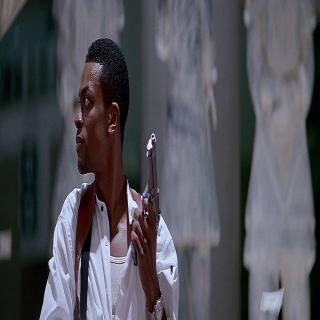gun: (128, 128, 162, 265)
